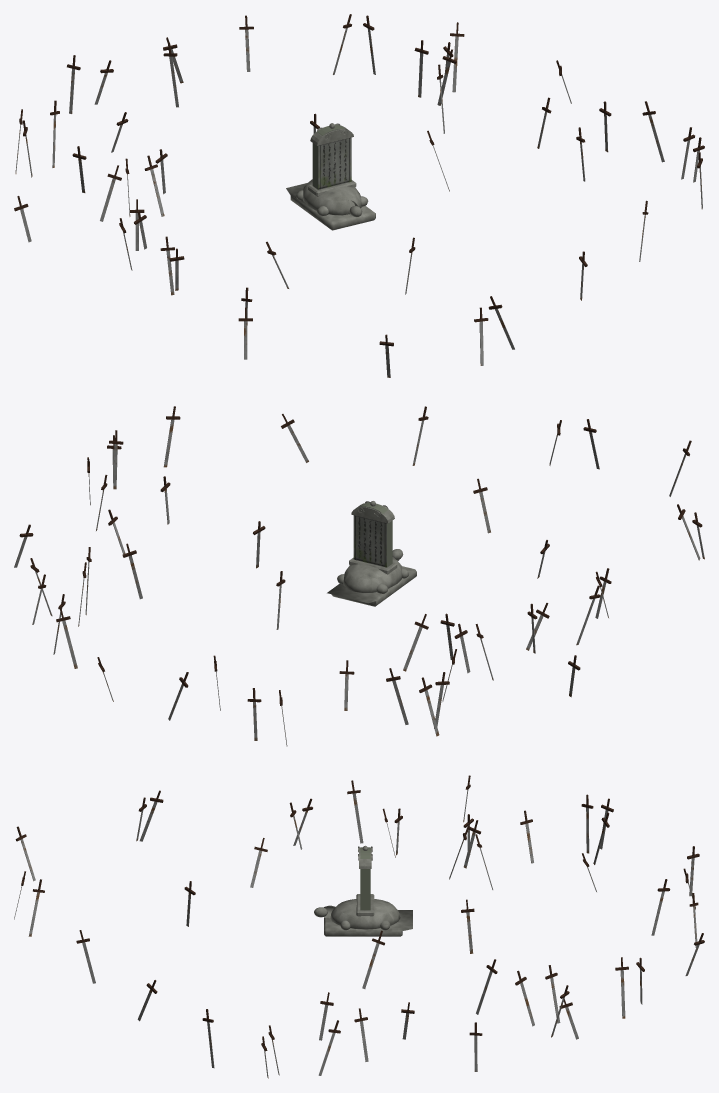
Rendered from sword_tomb.glb.
3 renders of one model, top to bottom at view 1: azimuth 30°, elevation 25°; view 2: azimuth 150°, elevation 25°; view 3: azimuth 270°, elevation 25°, orthographic. The views are drawn at different scales.
Visible parts, largest first — view 1: Blades, Hilts, SteleTortoise, SteleTablet; view 2: Blades, Hilts, SteleTortoise, SteleTablet; view 3: Blades, Hilts, SteleTortoise, SteleTablet.
Boxes of the visible parts, x1=… form: Blades: x1=15, y1=28, x2=702, y2=377; Hilts: x1=14, y1=14, x2=704, y2=346; SteleTortoise: x1=286, y1=179, x2=375, y2=230; SteleTablet: x1=312, y1=125, x2=351, y2=189; Blades: x1=14, y1=419, x2=704, y2=746; Hilts: x1=19, y1=406, x2=702, y2=705; SteleTortoise: x1=327, y1=549, x2=416, y2=606; SteleTablet: x1=353, y1=502, x2=392, y2=567; Blades: x1=14, y1=790, x2=699, y2=1078; Hilts: x1=15, y1=775, x2=704, y2=1051; SteleTortoise: x1=314, y1=899, x2=412, y2=936; SteleTablet: x1=360, y1=847, x2=370, y2=910.
Size of what is drawn, in the model's own units: 15.98 by 2.53 by 17.58.
Materials: 4 (4 with a texture image).
